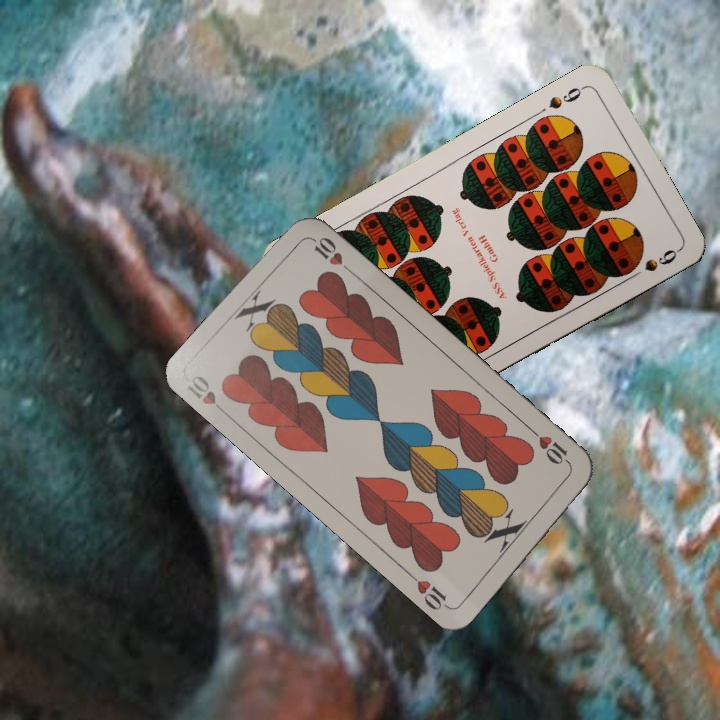H10: (182, 371, 232, 420), (526, 425, 574, 469)
S9: (544, 81, 589, 112)
